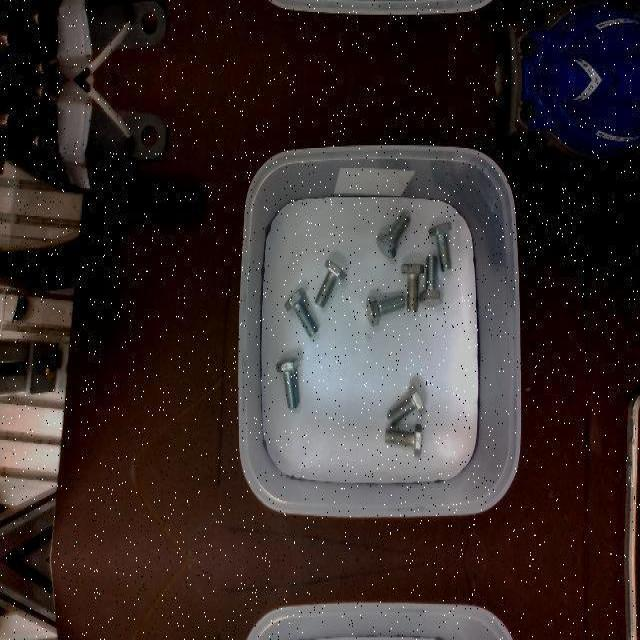screw: (386, 384, 426, 428), (284, 287, 318, 337), (376, 211, 410, 257), (314, 259, 346, 307), (384, 423, 422, 457), (365, 295, 405, 327), (419, 254, 443, 306), (400, 263, 424, 313), (427, 221, 451, 271), (275, 357, 299, 407)
